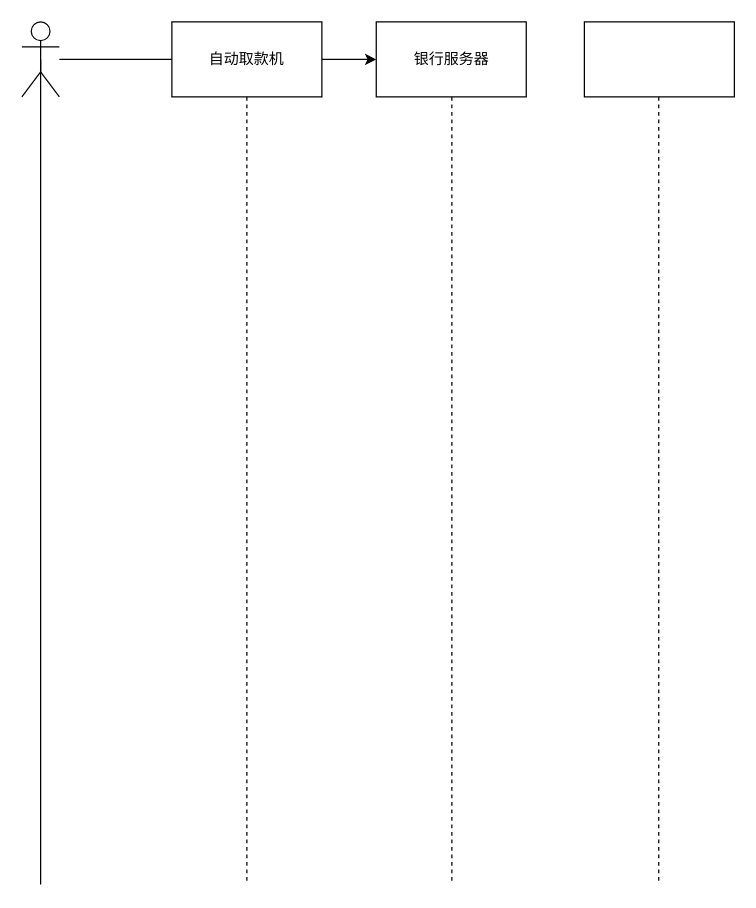
Some shapes in this 756 by 908 pixel diagram are drawn without their labels. The box of each missing label's shape, as (x1, y1, x2, y2) in pixels:
Actor: (21, 21, 59, 97)
银行账户: (583, 21, 734, 97)
